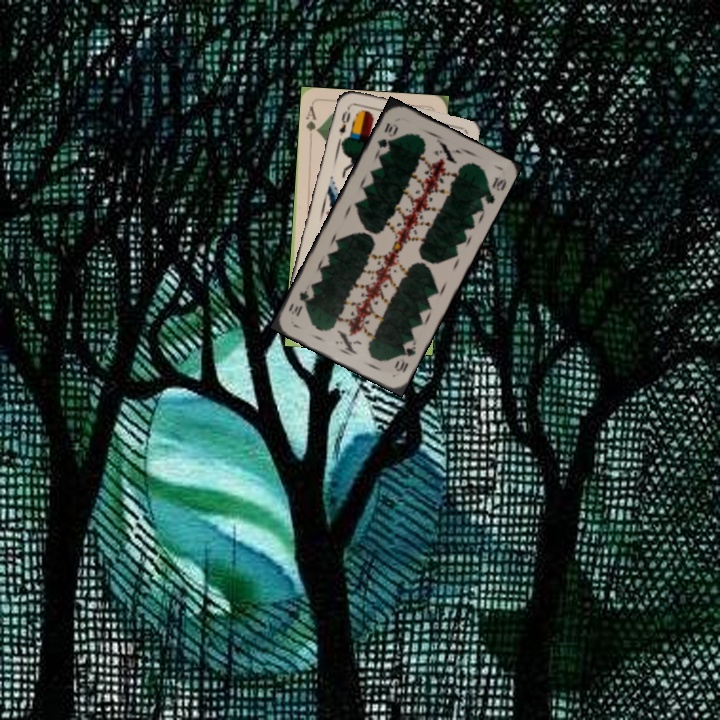EO: (335, 103, 353, 138)
G10: (390, 336, 418, 375), (373, 118, 400, 151)
GA: (302, 102, 321, 142)
